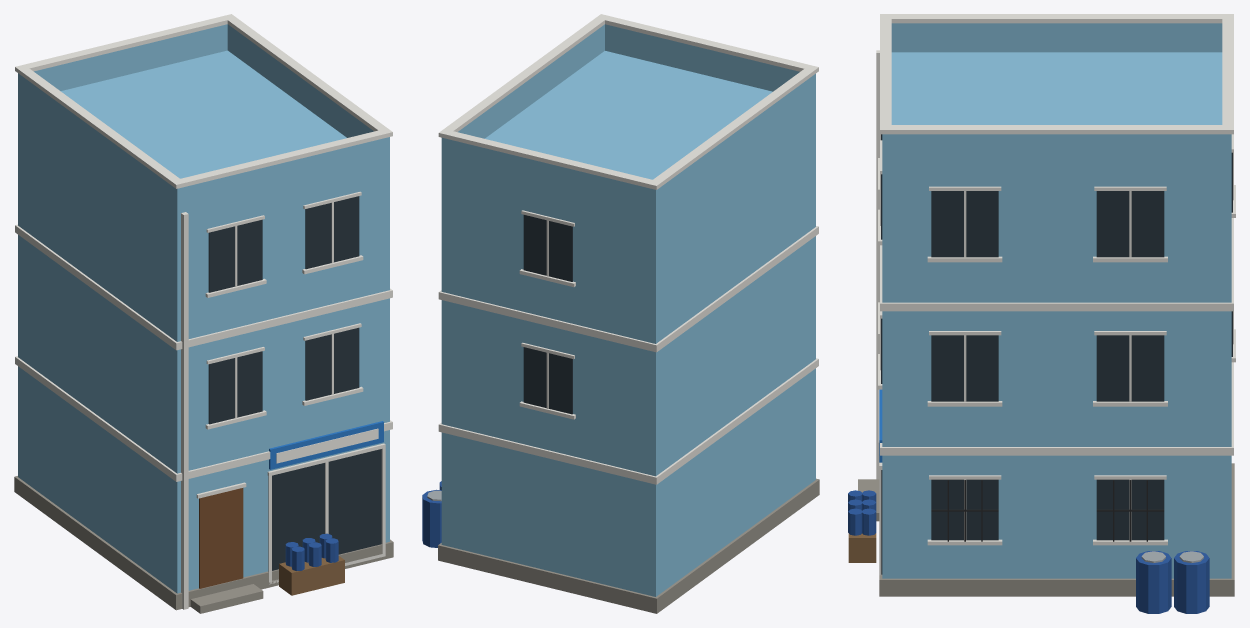
Rendered from BAY_F_Corner_C.glb.
3 renders of one model, left to right at view 1: azimuth 30°, elevation 25°; view 2: azimuth 150°, elevation 25°; view 3: azimuth 270°, elevation 25°, orthographic. The views are drawn at different scales.
Visible parts, largest first — view 1: BAY_F_Corner_C; view 2: BAY_F_Corner_C; view 3: BAY_F_Corner_C.
Part boxes in pixels (<box>): BAY_F_Corner_C: <box>14,14,393,613</box>; BAY_F_Corner_C: <box>422,14,819,613</box>; BAY_F_Corner_C: <box>848,14,1235,613</box>.
Bounding box in the file's own units: 5.18 × 8.4 × 6.33.
1 material, 1 textured.
